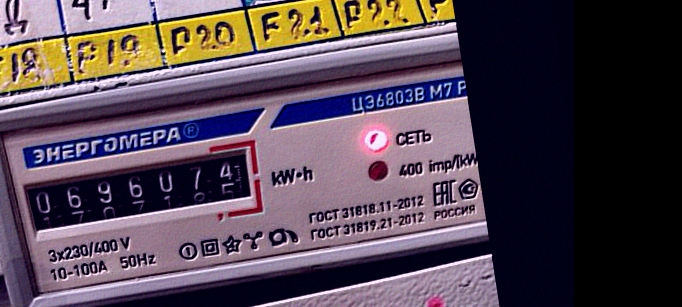0: (31, 189, 53, 216), (156, 167, 176, 195)
4: (216, 157, 236, 183)
5: (220, 180, 237, 201)
6: (63, 182, 86, 211), (125, 174, 145, 200)
7: (185, 163, 207, 192)
9: (93, 178, 116, 206)
screen: (10, 134, 271, 253)
